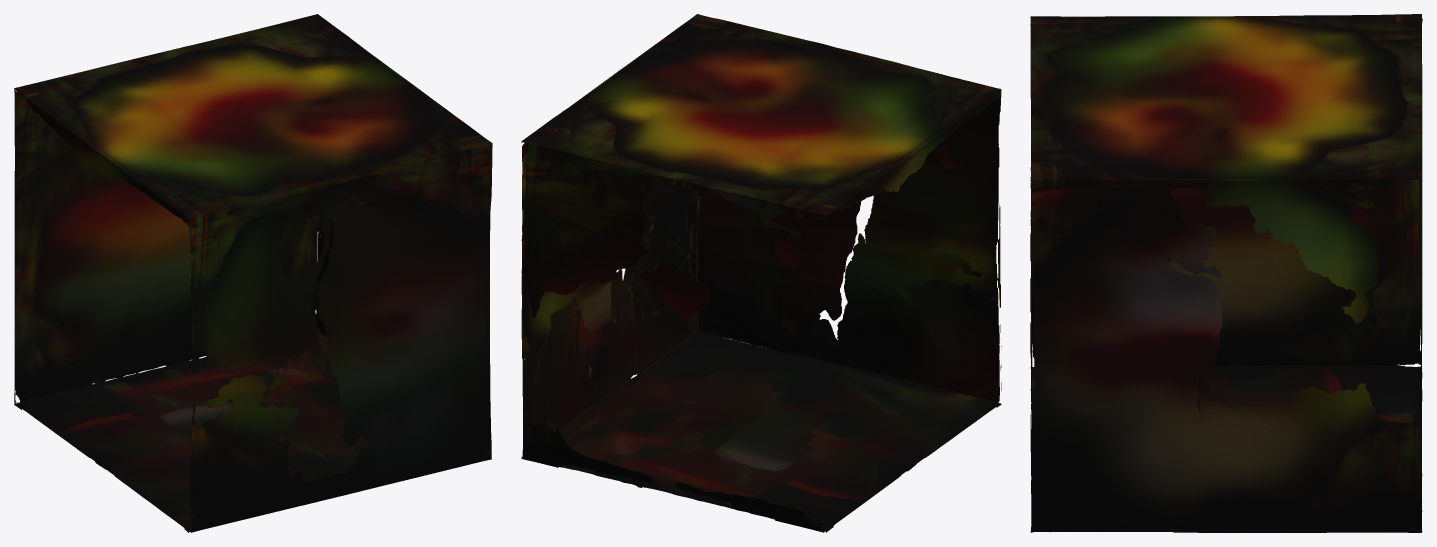
File: env-flower-garden.glb
3 views of the same model, side by side, from view 1: azimuth 30°, elevation 25°; view 2: azimuth 150°, elevation 25°; view 3: azimuth 270°, elevation 25° (orthographic). The views are drawn at different scales.
Visible parts, largest first — view 1: world; view 2: world; view 3: world.
Boxes of the visible parts, <box> form: world: <box>14,14,492,532</box>; world: <box>521,14,1001,532</box>; world: <box>1030,14,1422,532</box>.
Size of the model in its own units: 1 by 0.9996 by 1.
Materials: 1 (1 with a texture image).
